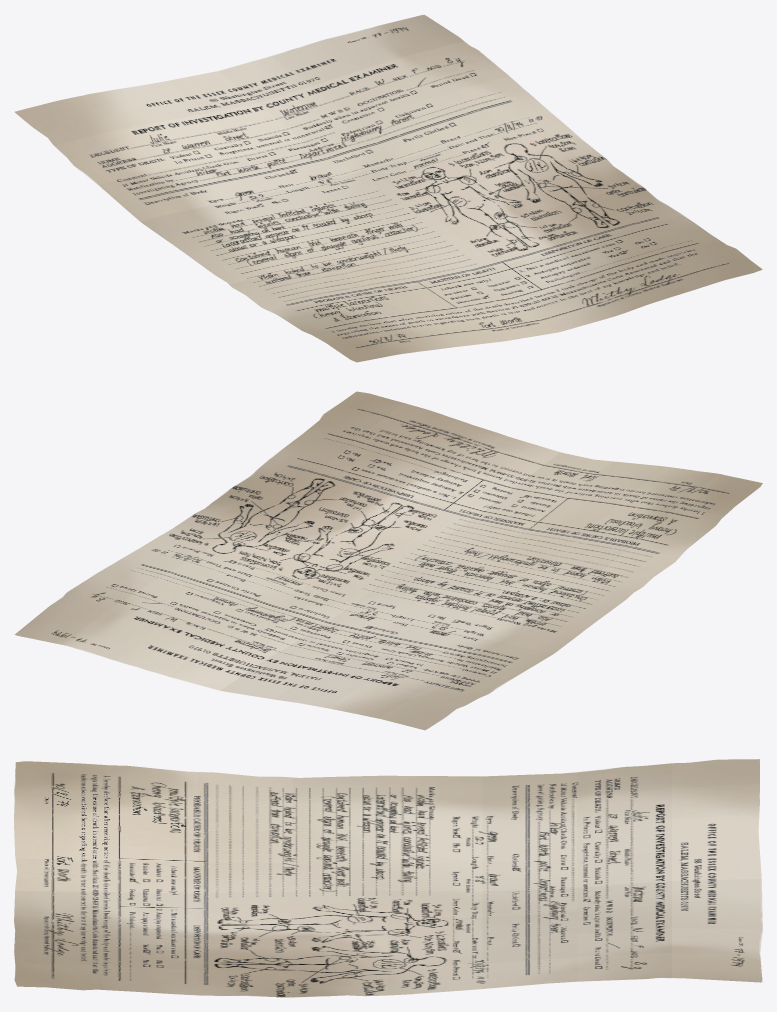
Rendered from autopsy.fbx.
3 renders of one model, top to bottom at view 1: azimuth 30°, elevation 25°; view 2: azimuth 150°, elevation 25°; view 3: azimuth 270°, elevation 25°, orthographic. The views are drawn at different scales.
Visible parts, largest first — view 1: Plane; view 2: Plane; view 3: Plane.
Boxes of the visible parts, <box> form: Plane: <box>14,14,762,362</box>; Plane: <box>14,391,762,730</box>; Plane: <box>14,759,762,997</box>.
Bounding box in the file's own units: 20.7 × 1.11 × 29.62.
